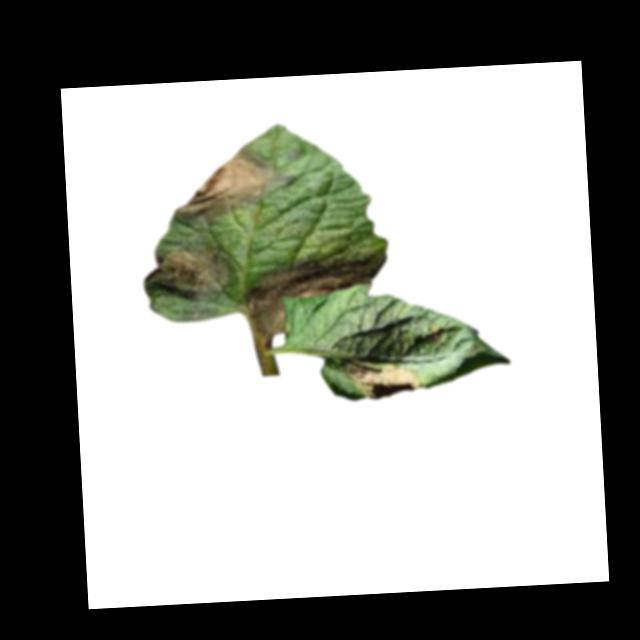Late_blight: (244, 247, 391, 339), (168, 142, 293, 225), (153, 240, 236, 306), (341, 351, 423, 401)
